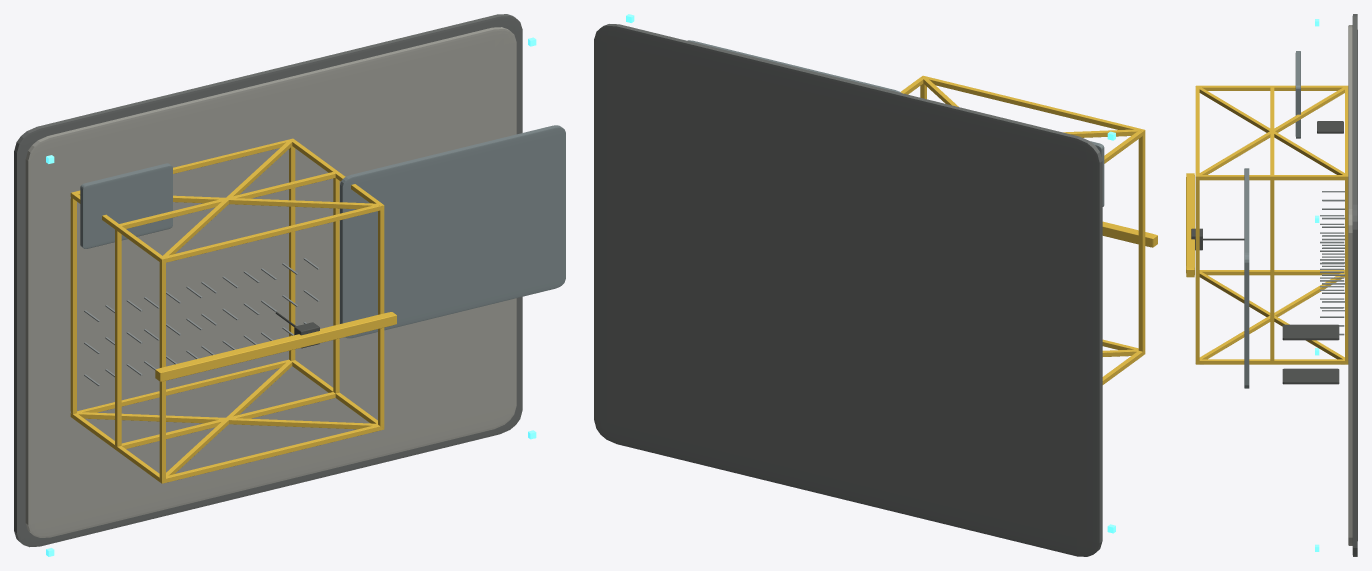
The model's file is b-08-logistics-hub-lod2.glb.
3 views of the same model, side by side, from view 1: azimuth 30°, elevation 25°; view 2: azimuth 150°, elevation 25°; view 3: azimuth 270°, elevation 25° (orthographic). The views are drawn at different scales.
Parts seen in each view (by area): view 1: foundation_inner_pad, logistics_warehouse_roof, foundation, weigh_station_roof, main_gantry_crane_bridge, main_gantry_crane_brace_a_-3.95, main_gantry_crane_beam_x_2_n, main_gantry_crane_beam_x_2_s, main_gantry_crane_beam_y_0_w, main_gantry_crane_beam_y_1_w, main_gantry_crane_beam_x_1_n, main_gantry_crane_beam_y_2_e (+12 smaller); view 2: foundation, main_gantry_crane_beam_y_2_w, main_gantry_crane_beam_x_2_n, main_gantry_crane_bridge; view 3: foundation, foundation_inner_pad, logistics_warehouse_roof, main_gantry_crane_brace_a_3.95, main_gantry_crane_brace_b_3.95, logistics_warehouse_door_1, logistics_warehouse_door_3, main_gantry_crane_brace_a_-3.95, main_gantry_crane_beam_y_2_e, main_gantry_crane_bridge, main_gantry_crane_beam_y_1_e, main_gantry_crane_column_e_n (+10 smaller).
Part boxes in pixels (x1,y1,x2,y2): foundation_inner_pad: [25, 27, 516, 537]; logistics_warehouse_roof: [340, 125, 565, 338]; foundation: [14, 14, 522, 547]; weigh_station_roof: [80, 163, 172, 248]; main_gantry_crane_bridge: [155, 312, 396, 381]; main_gantry_crane_brace_a_-3.95: [77, 412, 377, 429]; main_gantry_crane_beam_x_2_n: [159, 204, 383, 263]; main_gantry_crane_beam_x_2_s: [159, 424, 383, 483]; main_gantry_crane_beam_y_0_w: [70, 192, 76, 414]; main_gantry_crane_beam_y_1_w: [115, 229, 121, 446]; main_gantry_crane_beam_x_1_n: [115, 172, 335, 228]; main_gantry_crane_beam_y_2_e: [378, 203, 384, 429]; foundation: [594, 24, 1102, 556]; main_gantry_crane_beam_y_2_w: [1138, 129, 1145, 351]; main_gantry_crane_beam_x_2_n: [924, 76, 1145, 135]; main_gantry_crane_bridge: [1102, 221, 1157, 247]; foundation: [1352, 14, 1357, 556]; foundation_inner_pad: [1348, 25, 1352, 545]; logistics_warehouse_roof: [1244, 168, 1249, 388]; main_gantry_crane_brace_a_3.95: [1199, 87, 1344, 174]; main_gantry_crane_brace_b_3.95: [1199, 87, 1344, 174]; logistics_warehouse_door_1: [1282, 324, 1339, 340]; logistics_warehouse_door_3: [1282, 368, 1339, 384]; main_gantry_crane_brace_a_-3.95: [1199, 271, 1344, 359]; main_gantry_crane_beam_y_2_e: [1195, 175, 1199, 363]; main_gantry_crane_bridge: [1186, 173, 1194, 277]; main_gantry_crane_beam_y_1_e: [1270, 176, 1274, 360]; main_gantry_crane_column_e_n: [1199, 175, 1344, 180].
Size of what is drawn, in the model's own units: 19 by 15 by 6.67.
